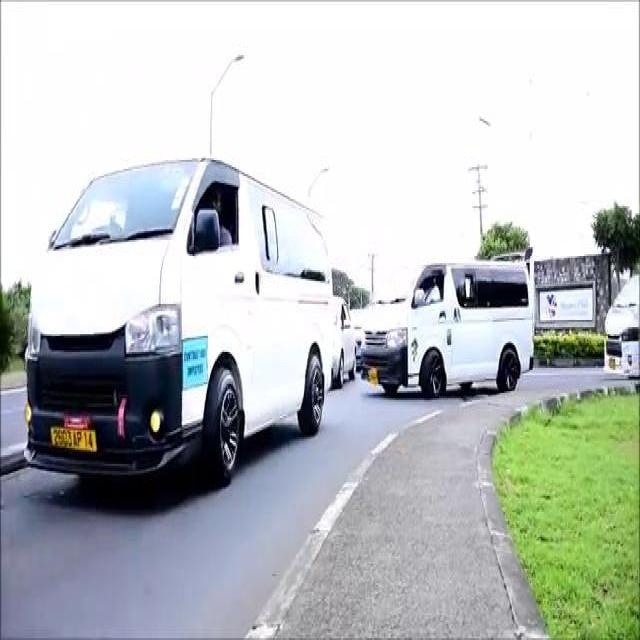Van: (26, 160, 337, 498), (357, 254, 534, 400)
